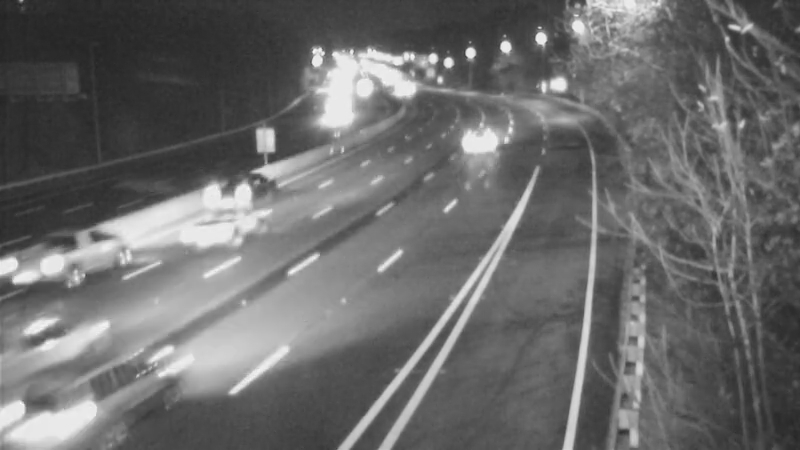vehicle: (1, 296, 98, 406), (1, 353, 111, 450), (208, 139, 288, 219), (1, 219, 78, 299), (452, 115, 502, 165)
